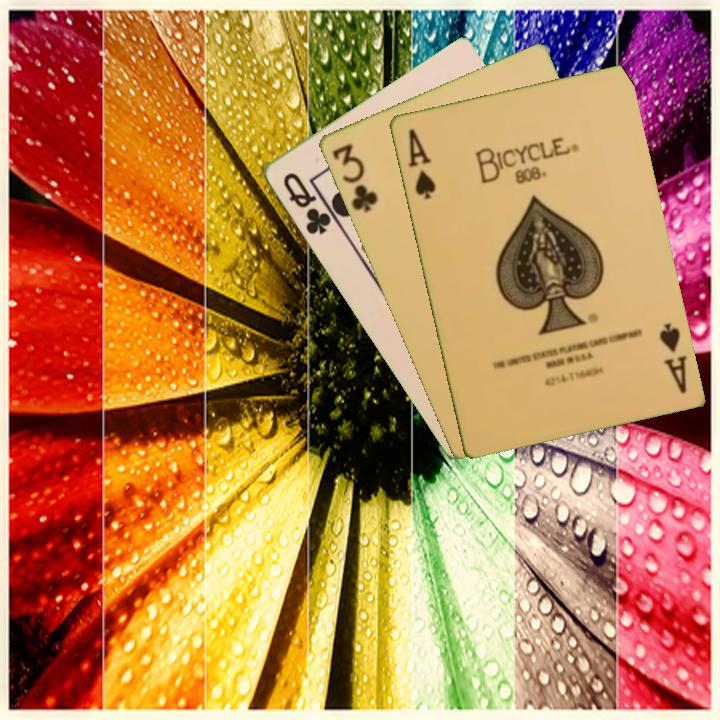3c: (328, 139, 380, 216)
As: (404, 125, 438, 202), (655, 319, 689, 396)
Qc: (278, 168, 334, 238)
